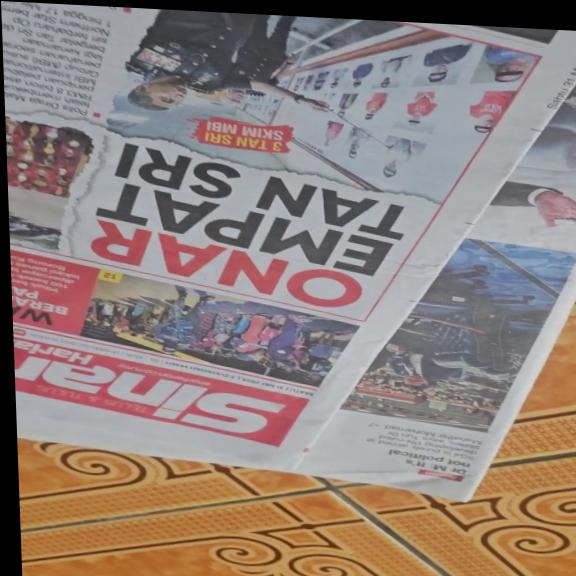Kertas: (12, 9, 576, 511)
